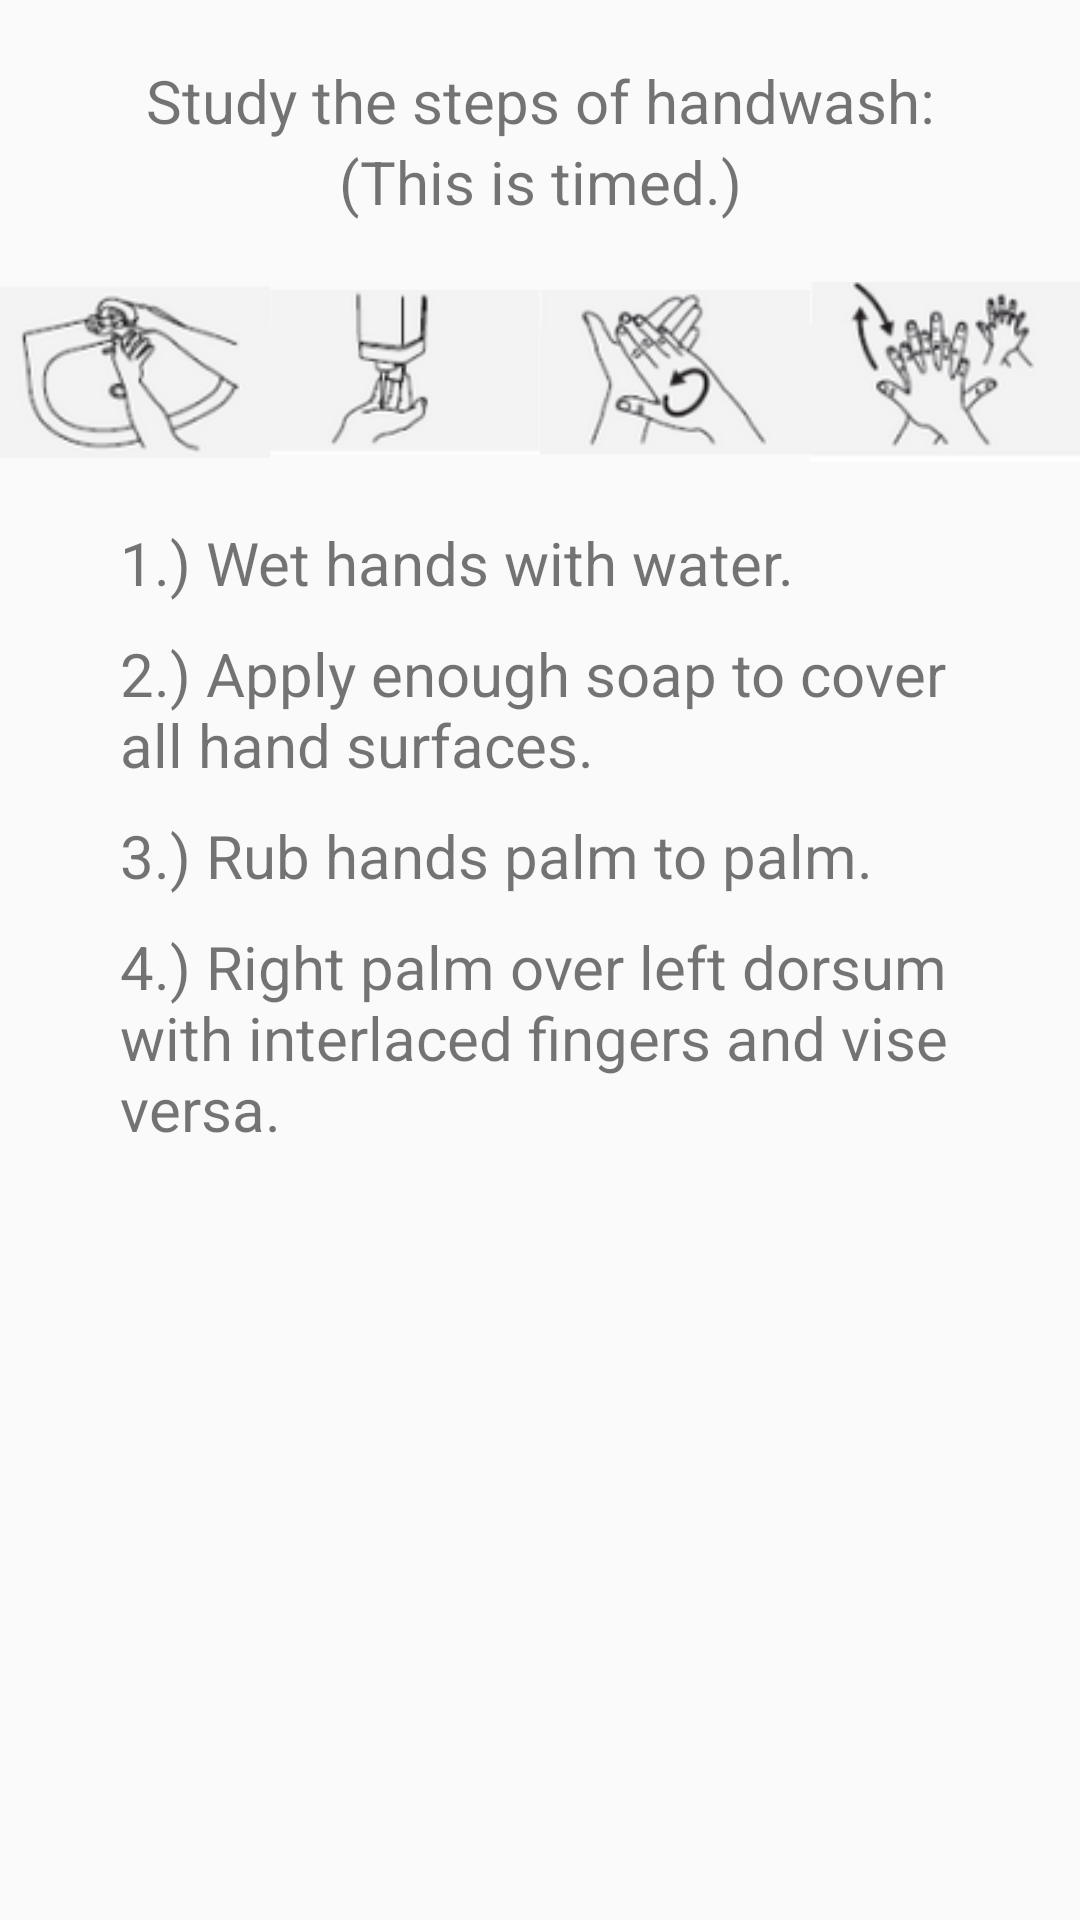

Where icons sit on this 1080w x 1920h app screen, as (x1, y1, x2, y2):
handwashstep: (851, 282, 1034, 446), (331, 293, 429, 445), (581, 294, 766, 445), (21, 296, 240, 451)
